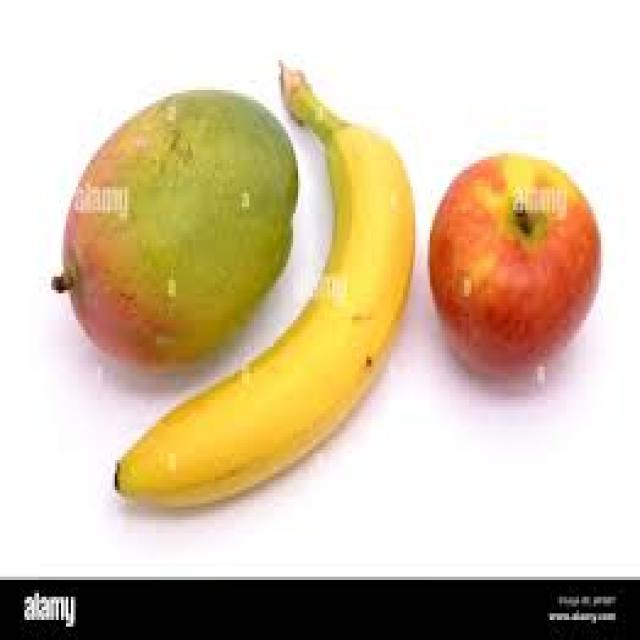Apple: (426, 149, 601, 383)
Banana: (114, 64, 418, 512)
Mango: (58, 87, 300, 372)
